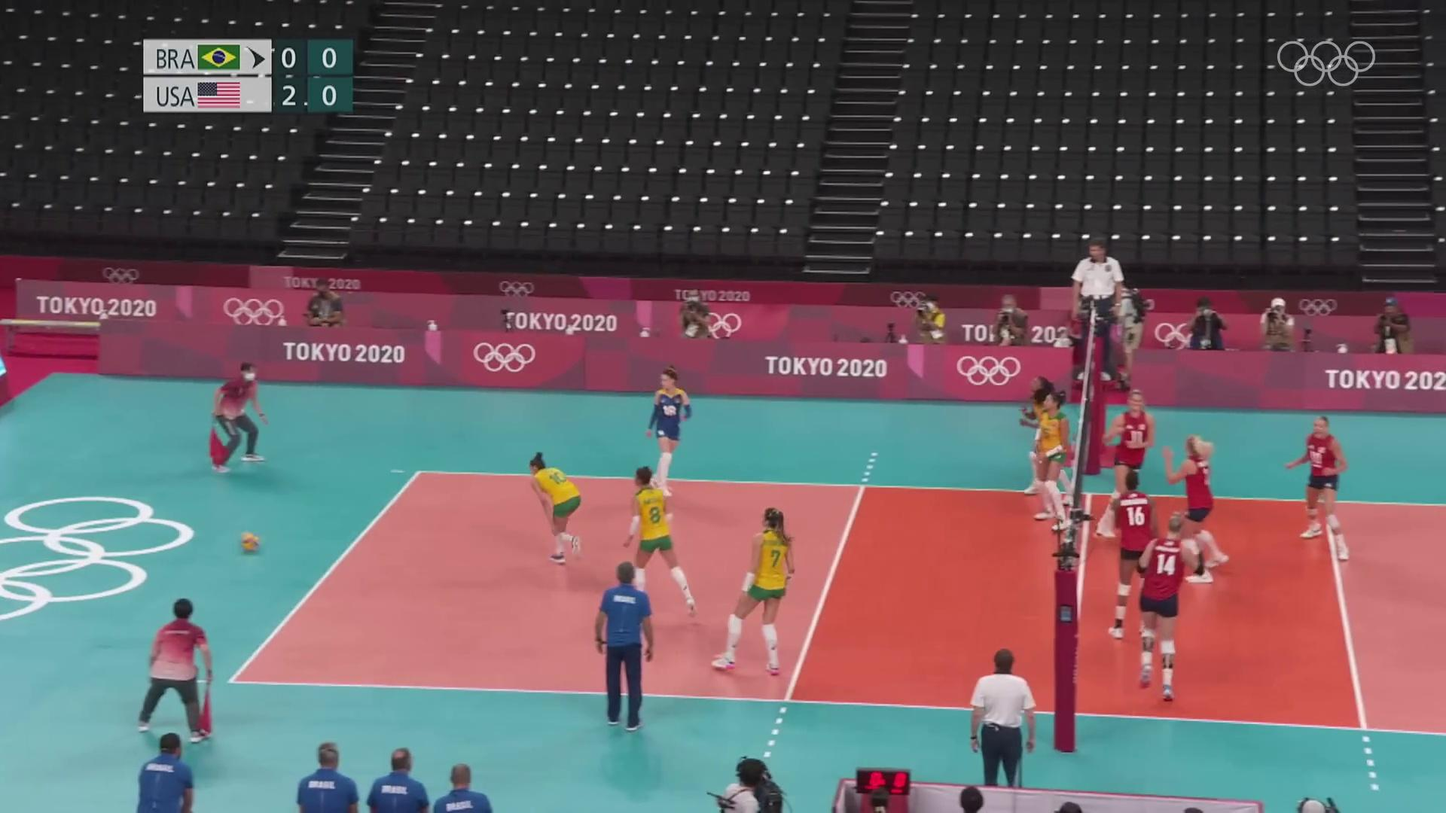player: (721, 510, 805, 675), (1139, 517, 1204, 703), (617, 469, 696, 616), (1283, 416, 1350, 565), (1105, 472, 1164, 639), (1166, 433, 1229, 588), (1098, 390, 1152, 536), (527, 453, 588, 564), (641, 372, 693, 494), (1024, 377, 1075, 499), (1029, 391, 1073, 531)
refree: (136, 605, 215, 742), (965, 651, 1041, 785), (1070, 238, 1123, 382), (210, 364, 269, 471)
